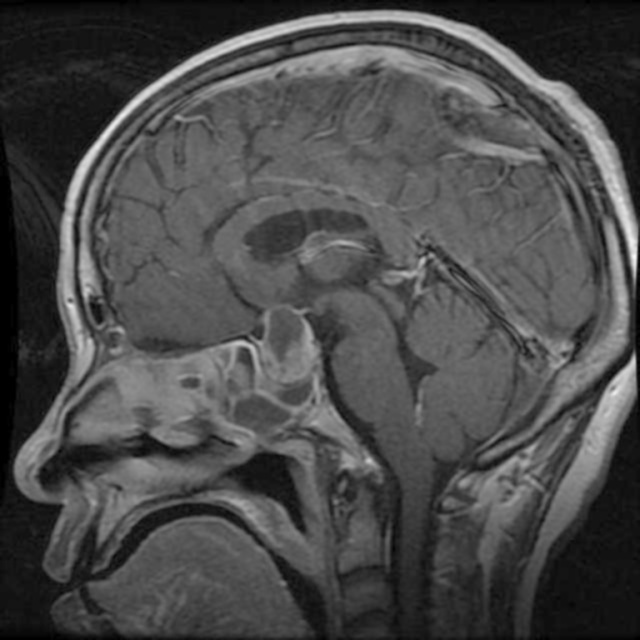no tumor: (255, 299, 329, 390)
